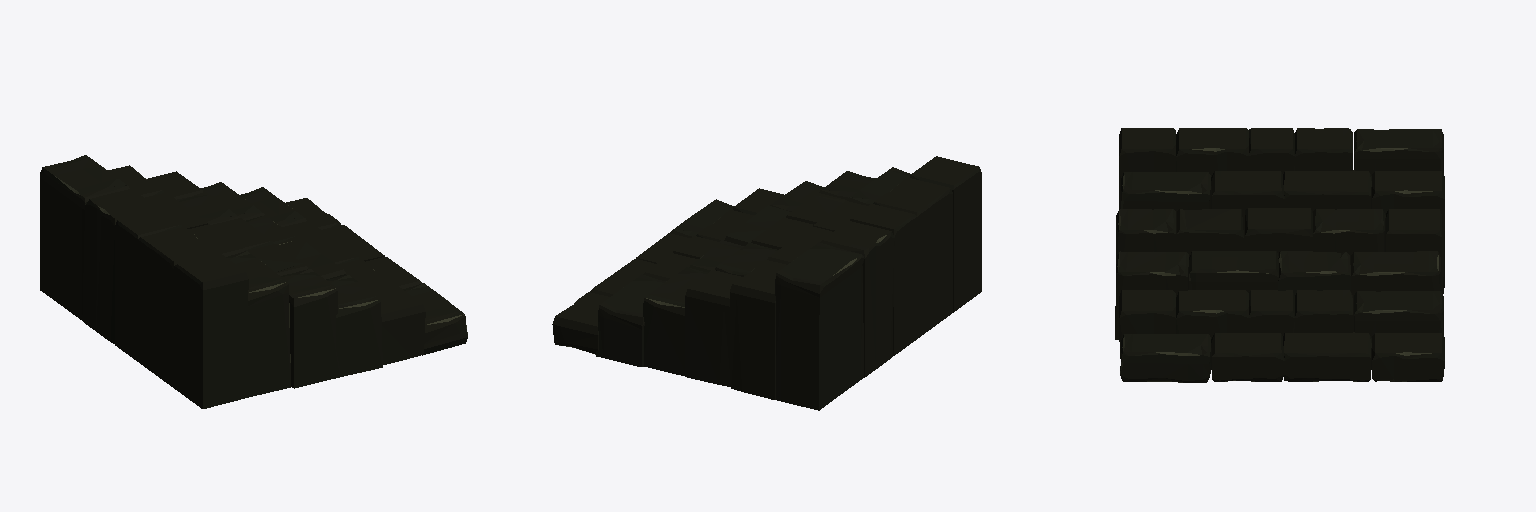
File: Stairs.obj
3 views of the same model, side by side, from view 1: azimuth 30°, elevation 25°; view 2: azimuth 150°, elevation 25°; view 3: azimuth 270°, elevation 25° (orthographic).
Visible parts, largest first — view 1: Stairs; view 2: Stairs; view 3: Stairs.
Part boxes in pixels (left/top/right/bottom): Stairs: left=40, top=155, right=467, bottom=408; Stairs: left=552, top=156, right=981, bottom=410; Stairs: left=1115, top=128, right=1444, bottom=382.
Bounding box in the file's own units: 2.02 × 0.9218 × 2.15.